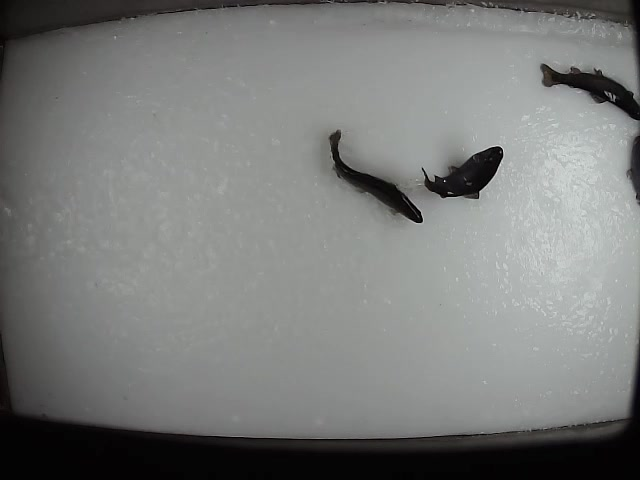Fish: (329, 129, 423, 223), (541, 64, 639, 121), (422, 148, 503, 199)
